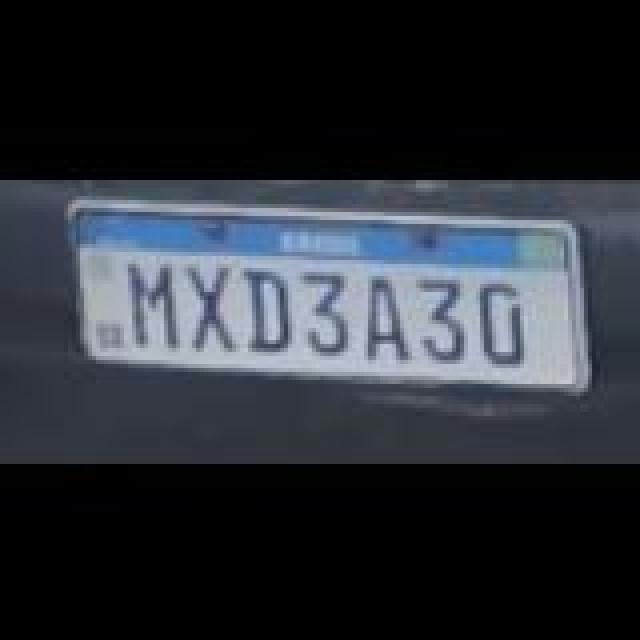3: (412, 274, 476, 358), (296, 270, 360, 354)
A: (358, 272, 418, 360)
D: (236, 266, 300, 350), (472, 278, 536, 362)
M: (122, 260, 190, 348)
X: (180, 260, 244, 348)
